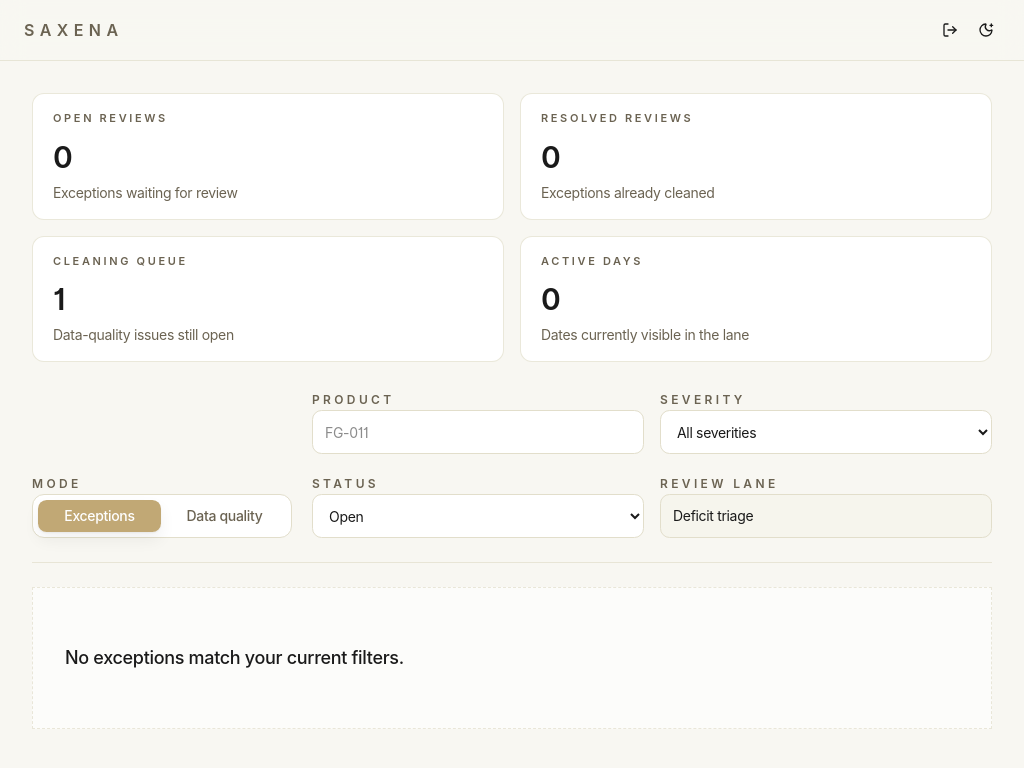
Scenario: App › switches to data-quality mode, opens detail, and updates issue status without reload
The width and height of the screenshot is (1024, 768).
Click the button "Data quality": click(224, 516) [162,499,287,533]
(page scrolled)
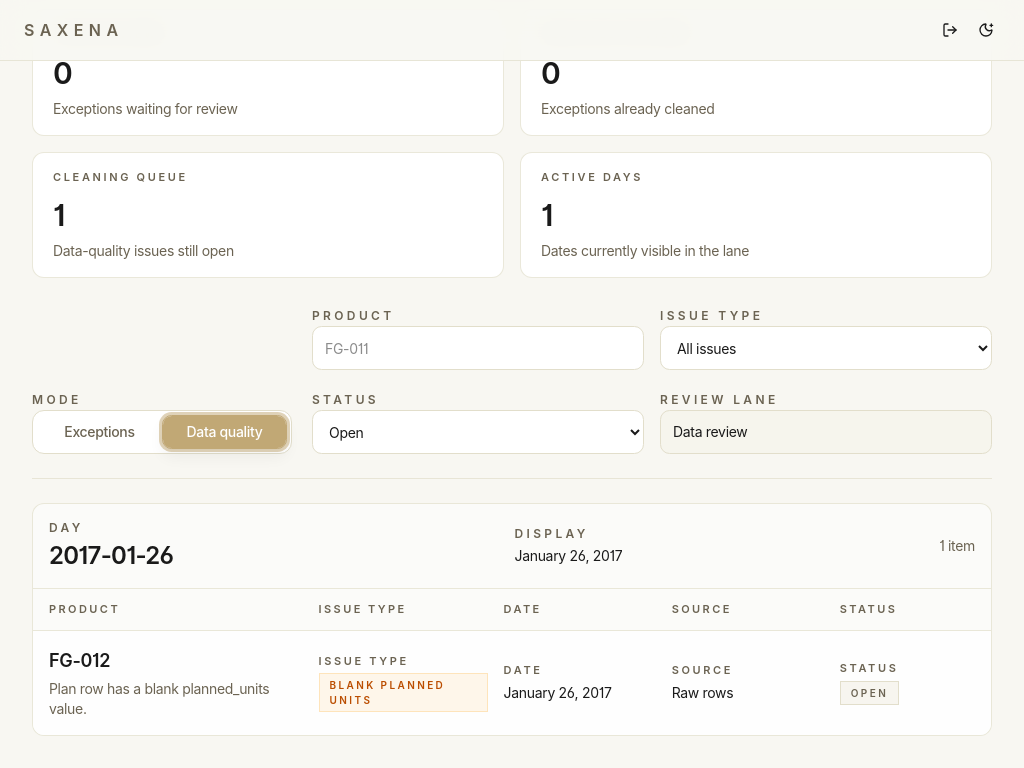
Check: the button with aria-label "view details for fg-012" is shown
Click the button with aria-label "view details for fg-012": click(176, 682) [49,646,302,718]
(page scrolled)
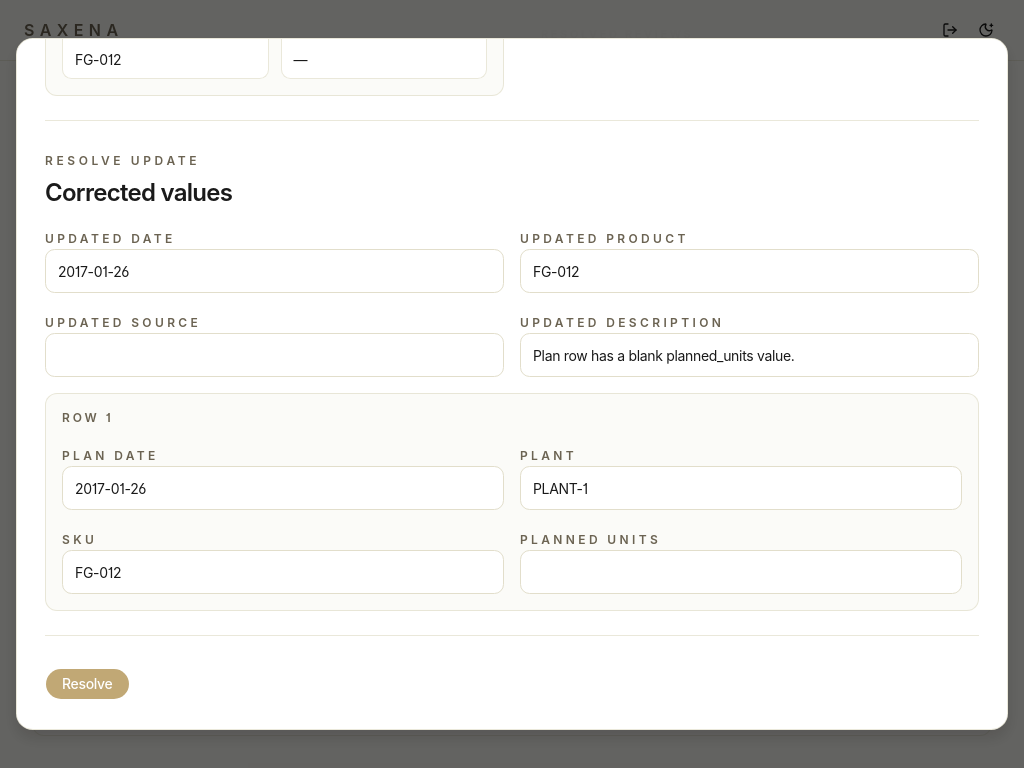
Click the button "Resolve": click(87, 684) [45,668,130,700]
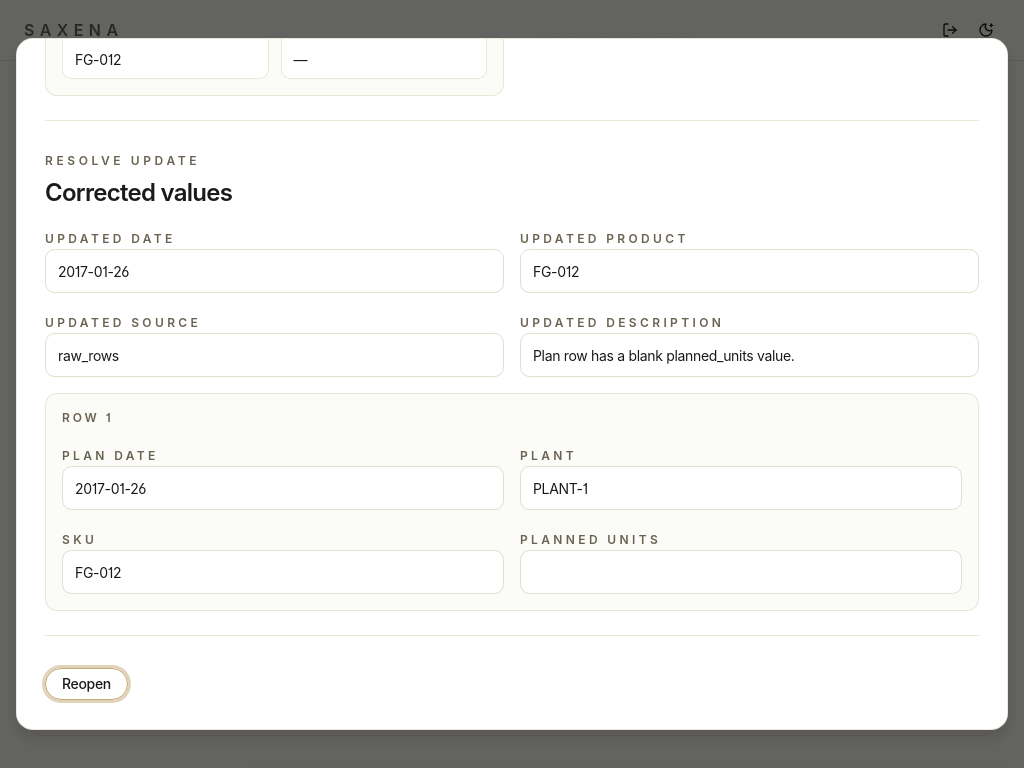
Click the button "Reopen": click(86, 684) [45,668,128,700]
(page scrolled)
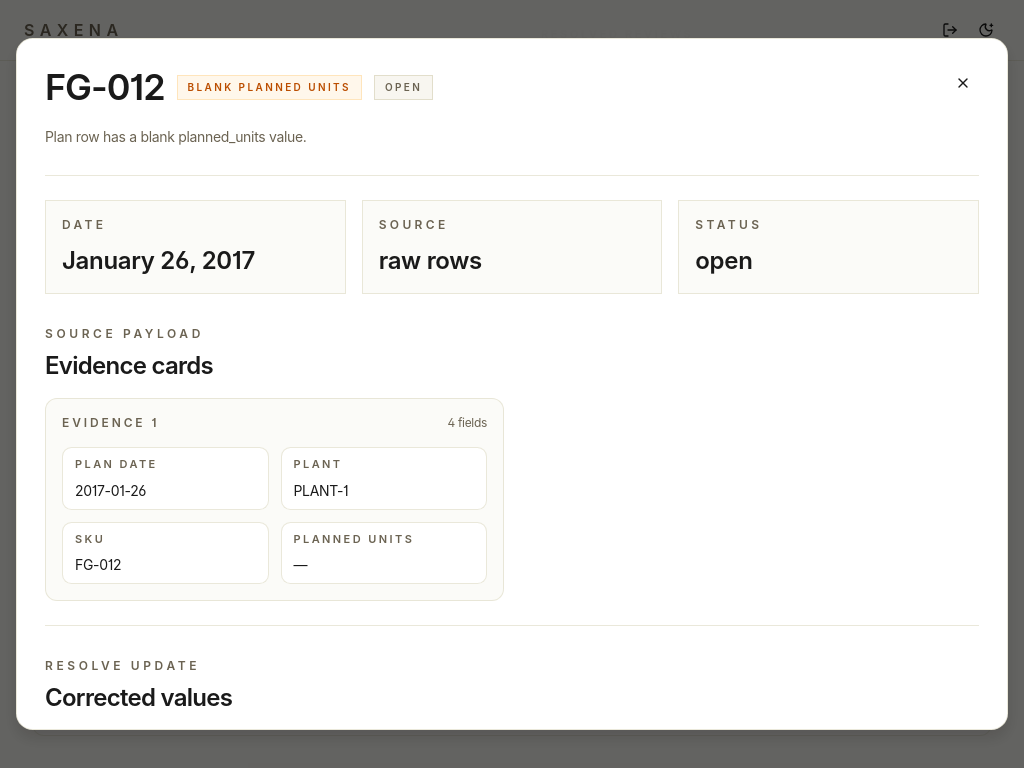
Check: the 1st text "open" is shown, box [374,75,433,100]
